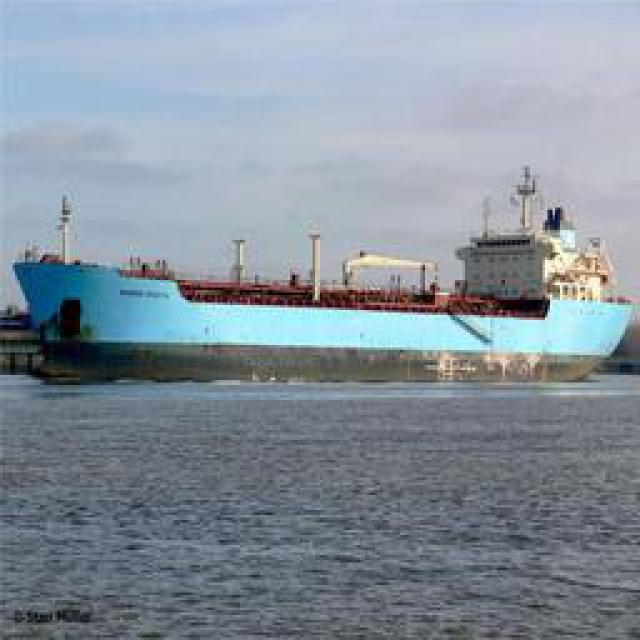Ship: (8, 211, 636, 381)
